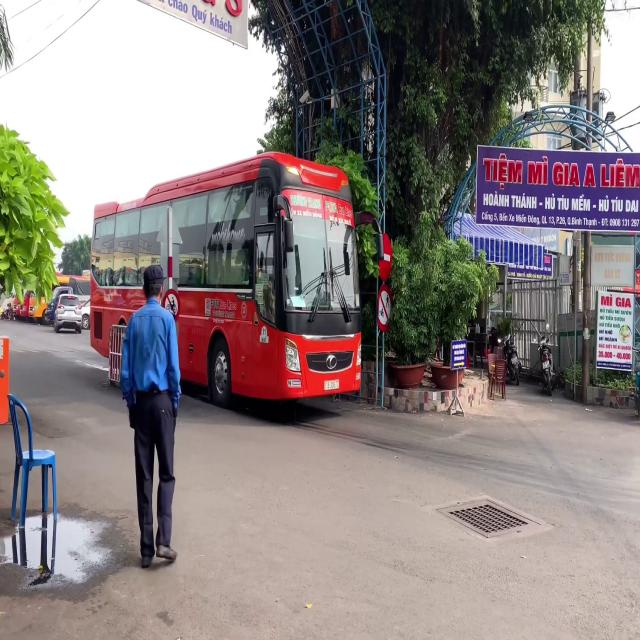bien_trang: (323, 379, 340, 391)
